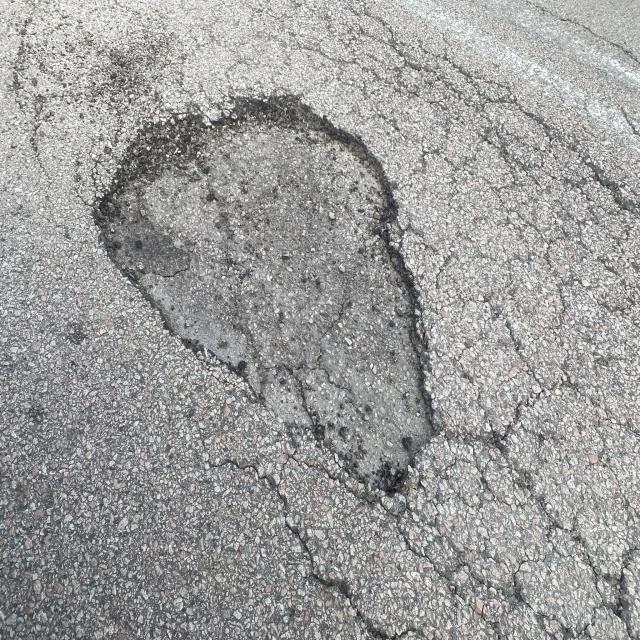Pothole: (88, 42, 478, 537)
